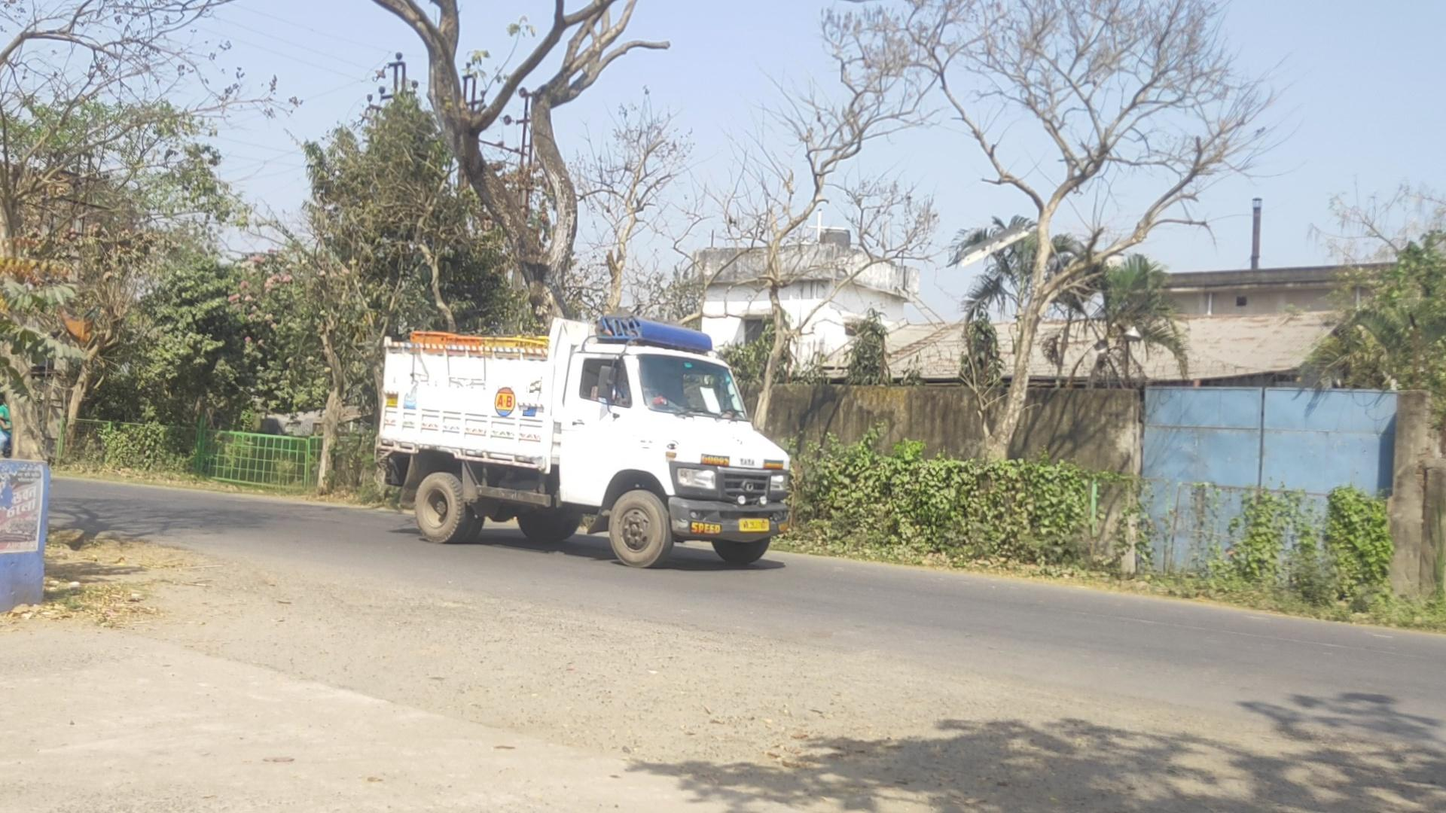truck: (373, 317, 793, 568)
